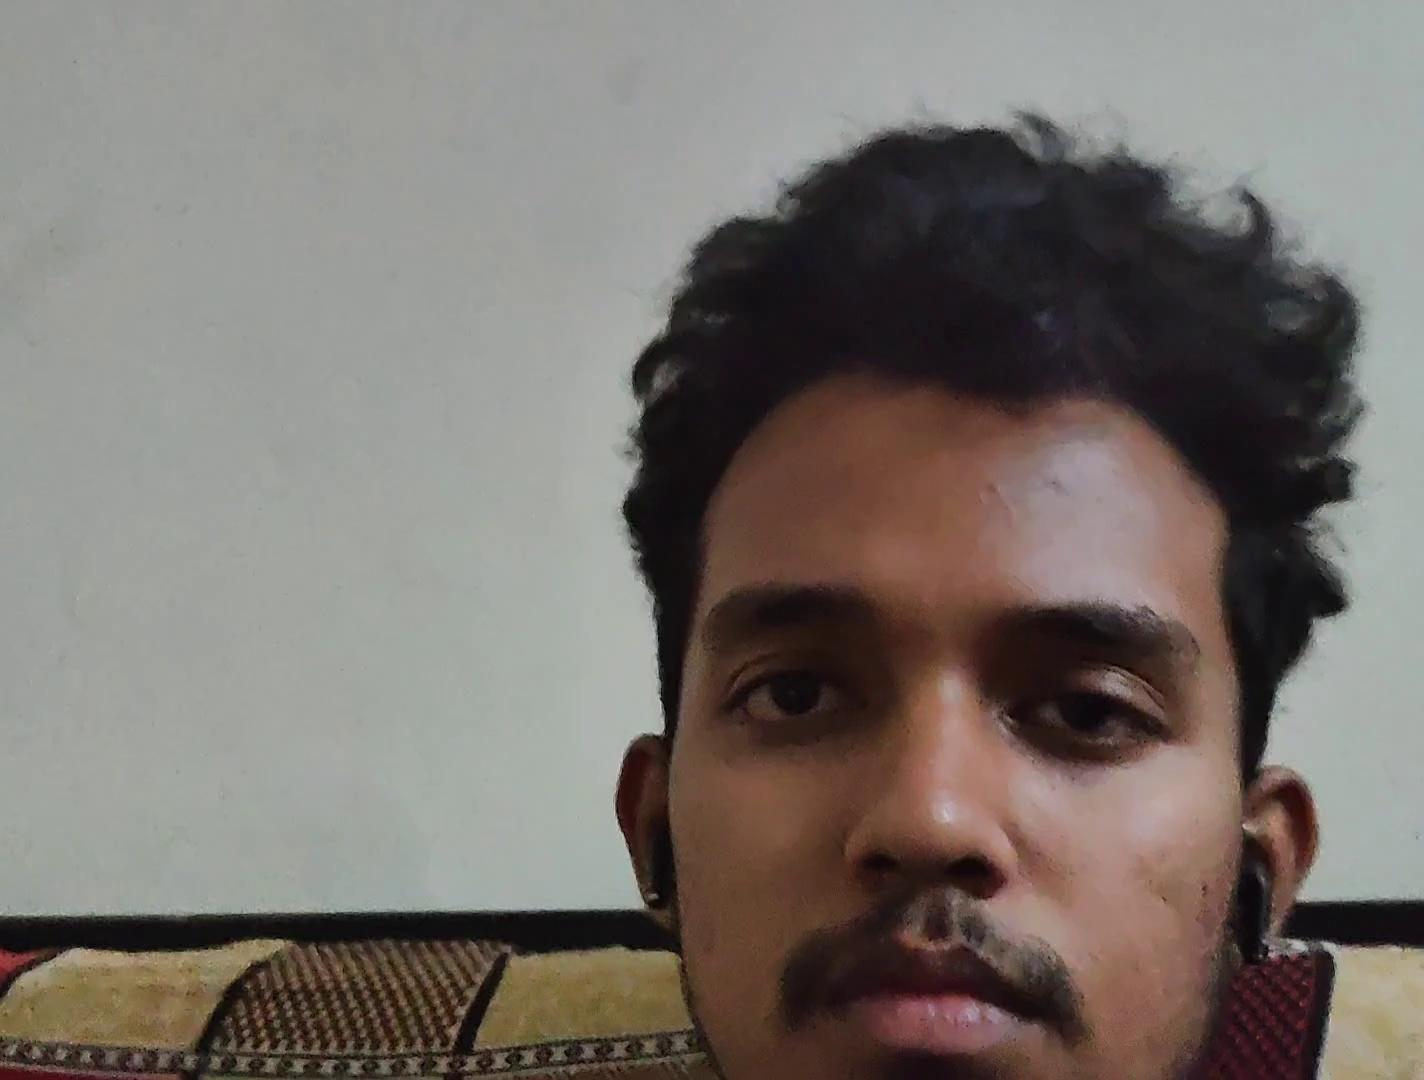face: (665, 383, 1248, 1078)
